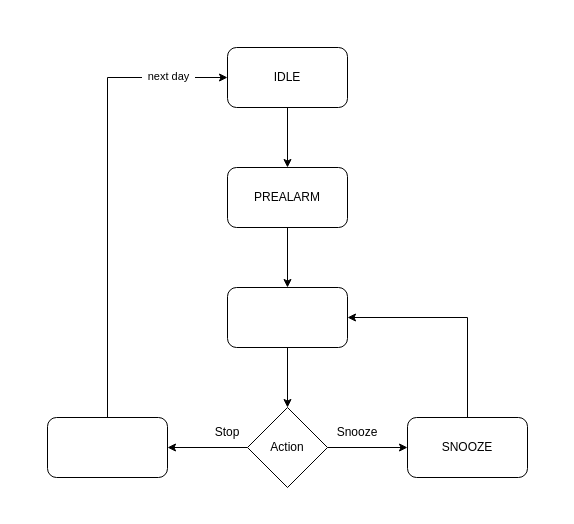
Some shapes in this 574 by 524 pixel diagram are drawn without their labels. The shapes that lost their labels are listed below. From the top down, each one's centre as x and y in pixels, then its label:
At point (287, 317): "ALARM".
At point (107, 447): "STOPPED".
